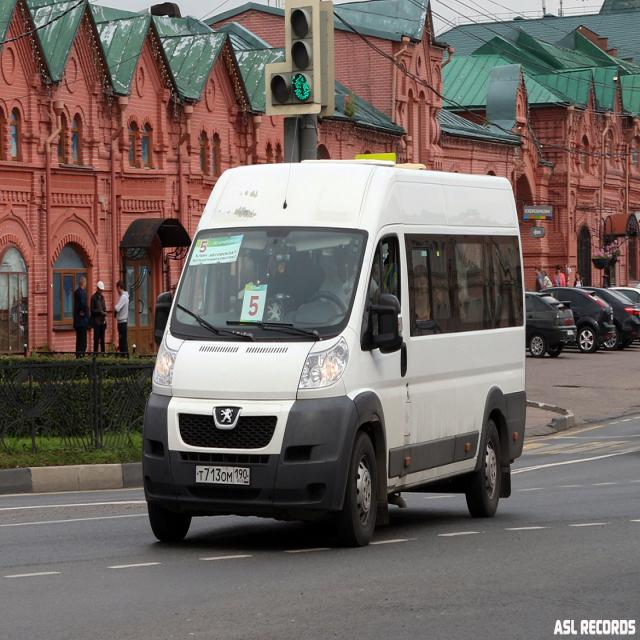number-of-bus: (246, 295, 262, 319), (199, 238, 210, 255)
